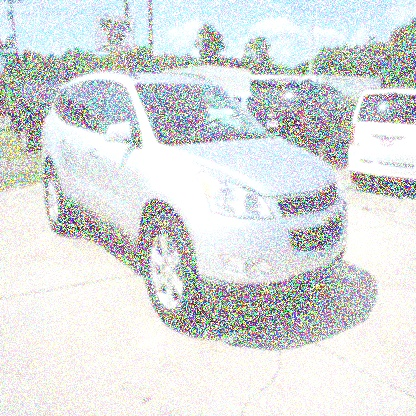Vehicle: (39, 69, 351, 334)
